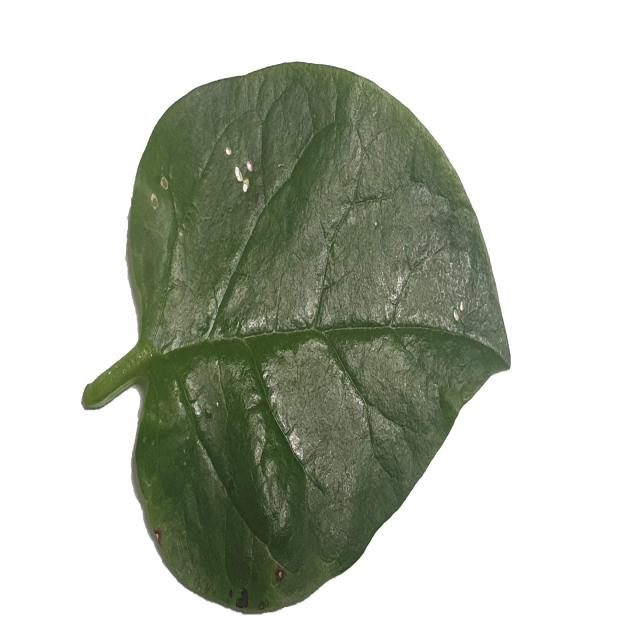Medicinal-Basale: (82, 58, 513, 616)
